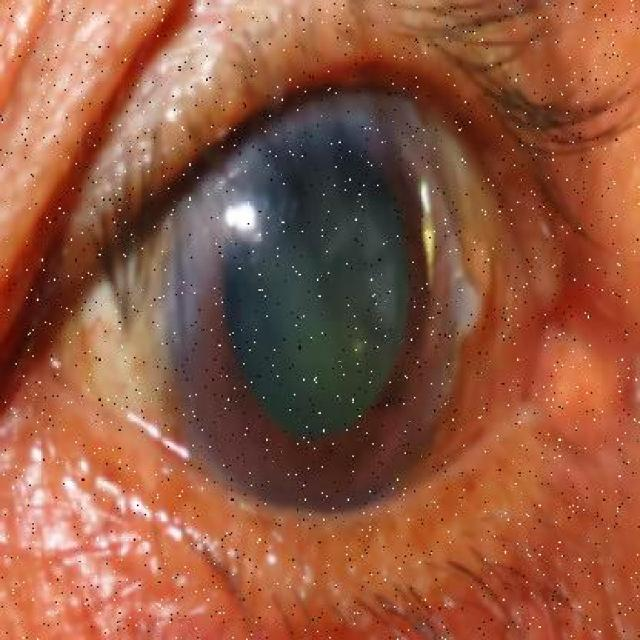Cataract: (152, 77, 491, 512)
